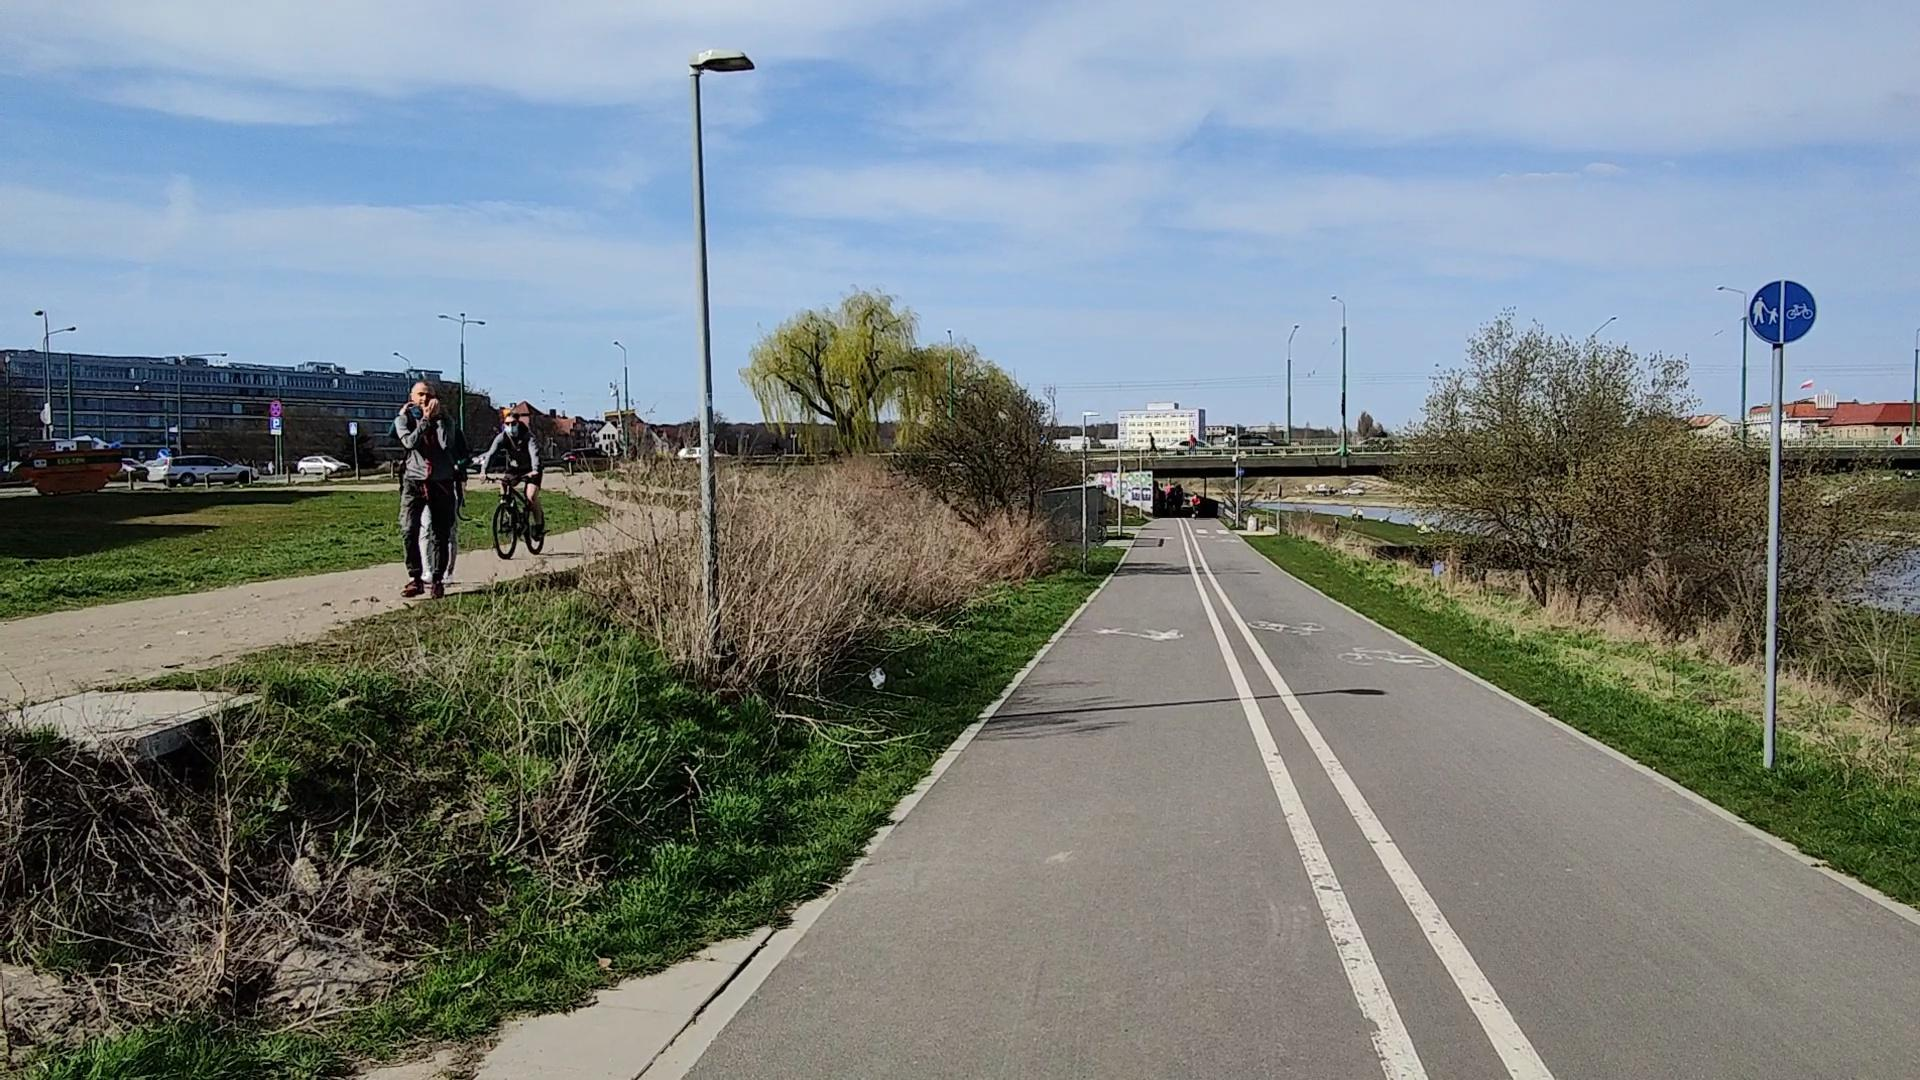cyclist: (467, 400, 571, 574)
people: (382, 372, 472, 608)
